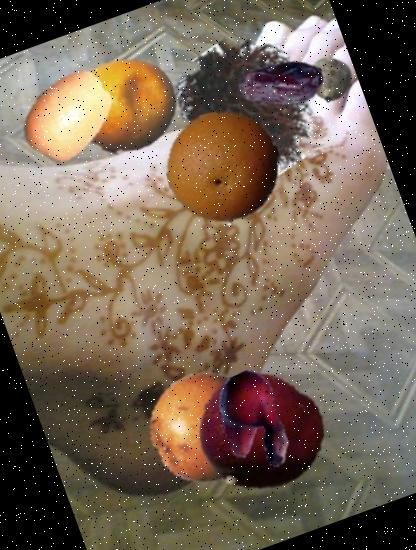Banana: (188, 356, 320, 488)
Beetroot: (294, 49, 364, 118)
Dates: (227, 30, 335, 138)
Granadilla: (134, 356, 280, 503)
Kumquats: (58, 40, 190, 172), (4, 54, 132, 180)
Nectarine: (181, 353, 342, 514)
Orange: (150, 95, 296, 240)
Rambutan: (160, 13, 346, 199)
